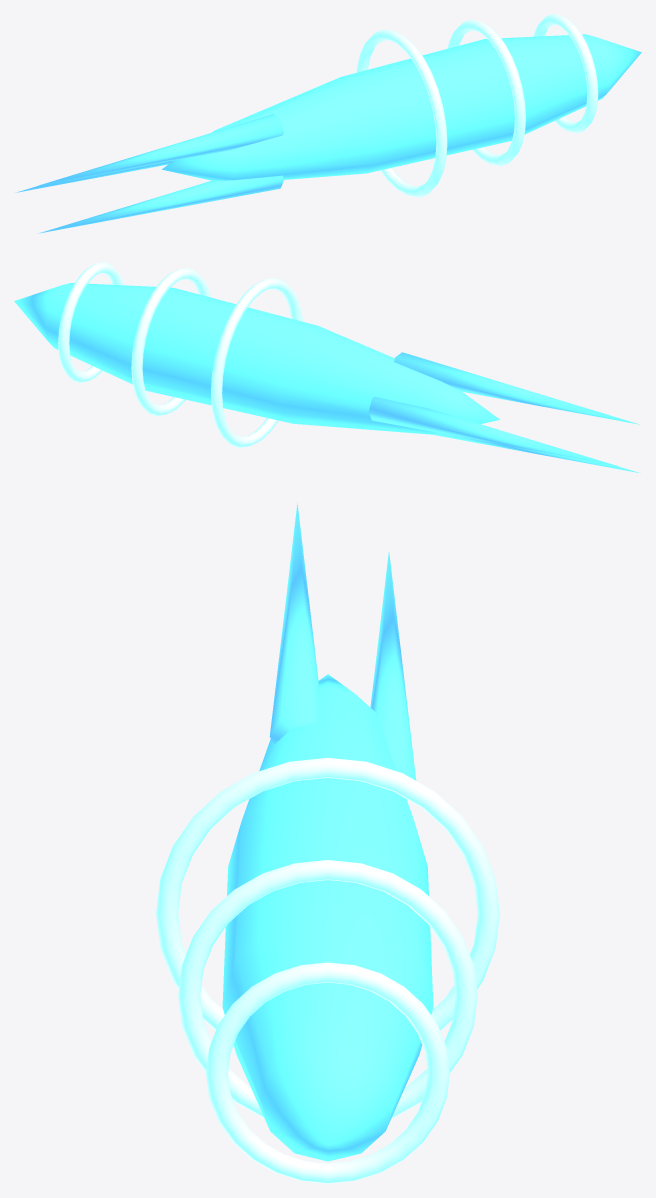
File: laser.glb
3 views of the same model, one above another, from view 1: azimuth 30°, elevation 25°; view 2: azimuth 150°, elevation 25°; view 3: azimuth 270°, elevation 25° (orthographic). The views are drawn at different scales.
Visible parts, largest first — view 1: Halo, Rings, Wisps; view 2: Halo, Rings, Wisps; view 3: Halo, Rings, Wisps.
Boxes of the visible parts, x1,y1,x2,y2 form: Halo: [162, 34, 641, 180]; Rings: [356, 14, 598, 197]; Wisps: [15, 114, 283, 233]; Halo: [14, 283, 499, 434]; Rings: [58, 262, 302, 447]; Wisps: [368, 352, 640, 473]; Halo: [222, 674, 433, 1161]; Rings: [156, 757, 499, 1183]; Wisps: [269, 502, 416, 780].
Bounding box in the file's own units: 25.5 × 6.2 × 6.2.
